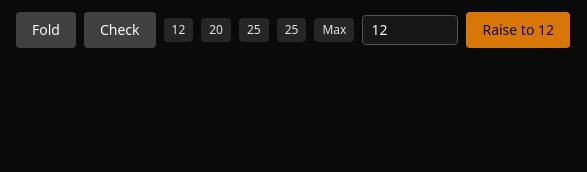
it: ActionControls › quick-bet buttons › clamps a multiplier that would exceed the stack down to the legal max
Click the 2nd button titled "50× big blind": (292, 30) [277,18,306,42]
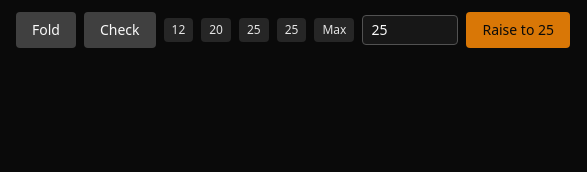
Expected: the number field named "Raise amount" holds "25", [362,15,458,45]
